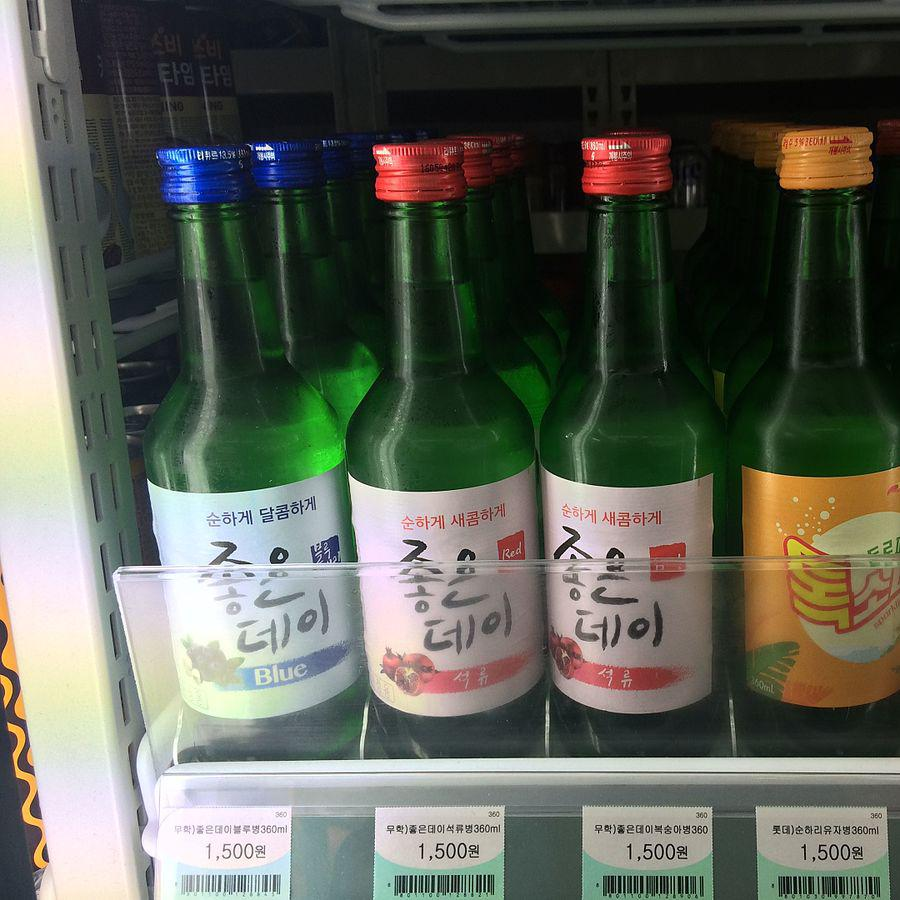soju: (127, 111, 898, 749)
